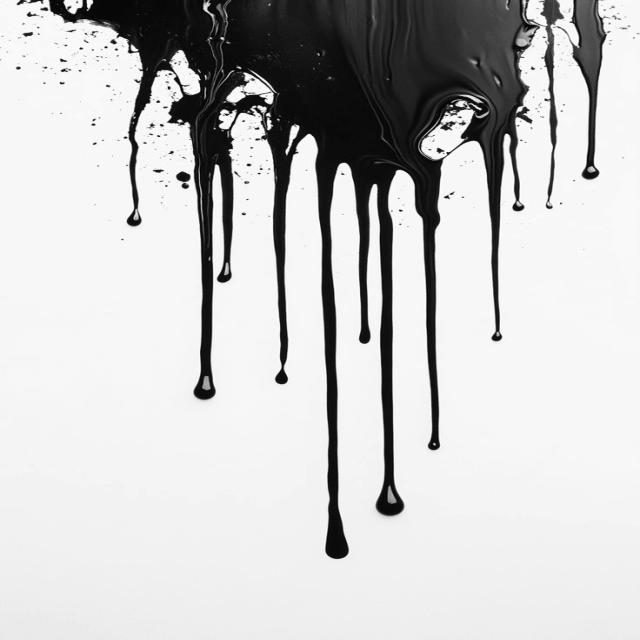paint drips: (262, 113, 461, 566), (469, 0, 626, 349), (98, 20, 238, 403)
